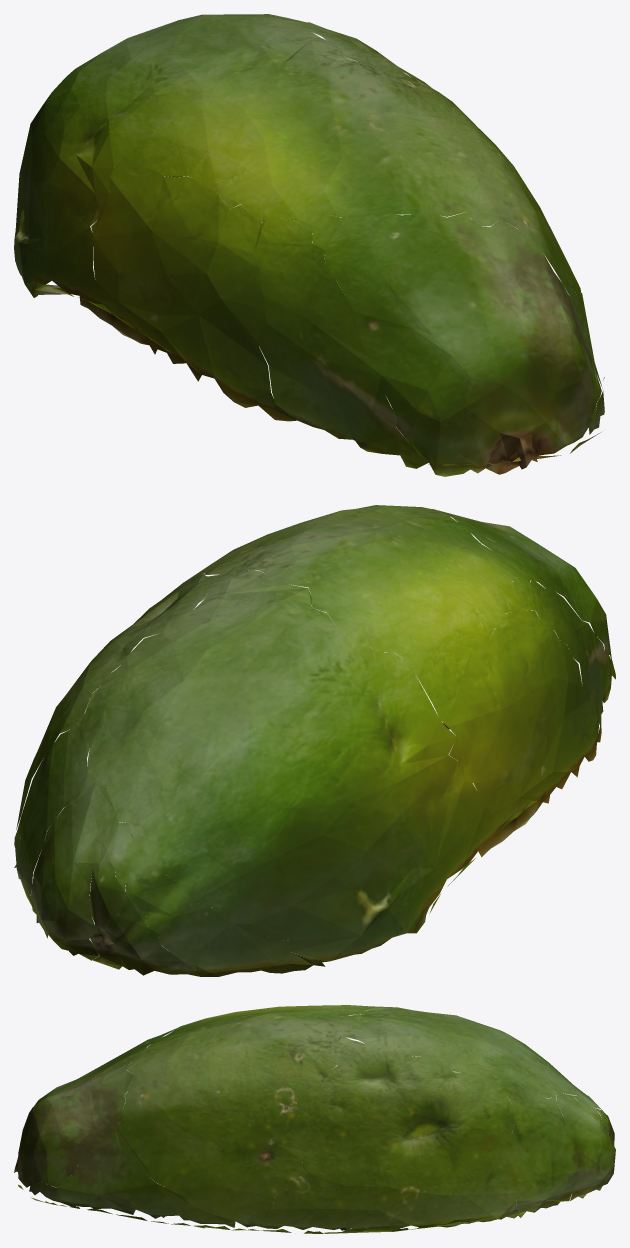
Rendered from papaya_top.gltf.
3 views of the same model, one above another, from view 1: azimuth 30°, elevation 25°; view 2: azimuth 150°, elevation 25°; view 3: azimuth 270°, elevation 25° (orthographic). The views are drawn at different scales.
Parts seen in each view (by area): view 1: Mesh_0.014; view 2: Mesh_0.014; view 3: Mesh_0.014.
Boxes of the visible parts, x1=… form: Mesh_0.014: x1=14, y1=14, x2=604, y2=476; Mesh_0.014: x1=14, y1=505, x2=615, y2=976; Mesh_0.014: x1=14, y1=1005, x2=615, y2=1233.
Size of the model in its own units: 0.4307 by 0.2667 by 0.8163.
2 materials, 2 textured.
